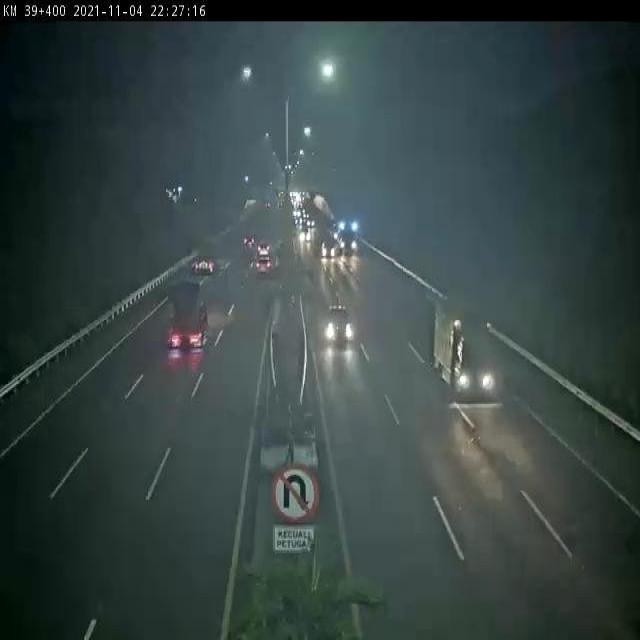car: (325, 303, 352, 341), (256, 257, 272, 276)
truck-m-: (432, 297, 496, 399), (168, 286, 207, 350), (194, 240, 222, 273)
